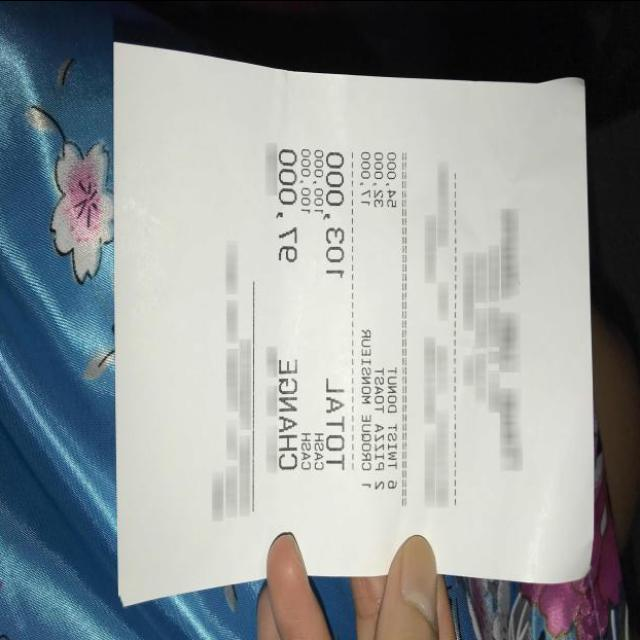kertas: (111, 36, 595, 603)
